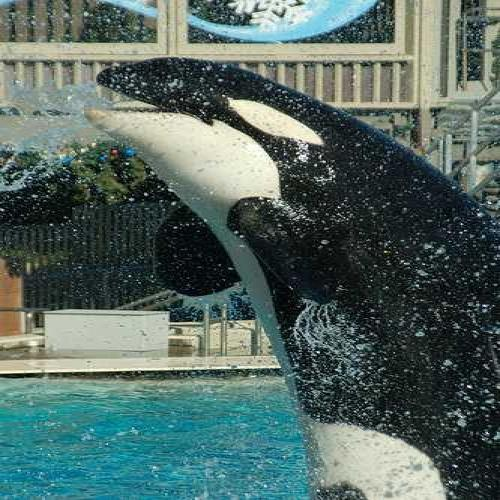killer_whale-endangered: (72, 37, 500, 500)
